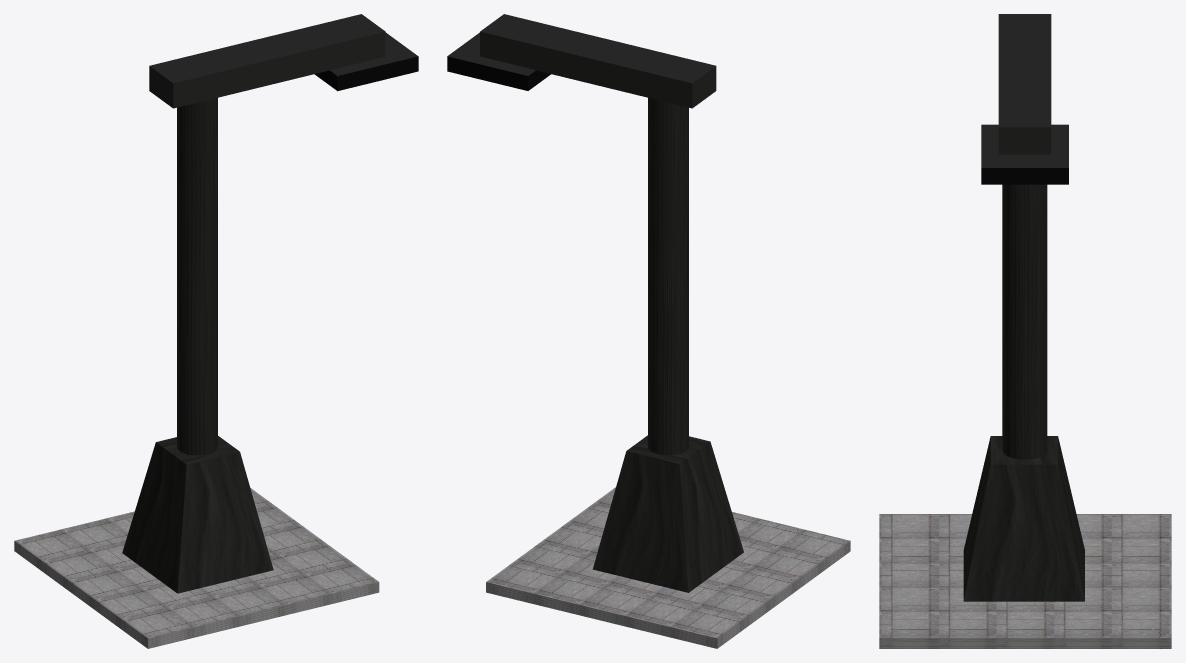
Rendered from poste_luz2.obj.
3 renders of one model, left to right at view 1: azimuth 30°, elevation 25°; view 2: azimuth 150°, elevation 25°; view 3: azimuth 270°, elevation 25°, orthographic. The views are drawn at different scales.
Parts seen in each view (by area): view 1: Cube; view 2: Cube; view 3: Cube.
Part boxes in pixels (x1=…): Cube: x1=14, y1=14, x2=418, y2=648; Cube: x1=447, y1=14, x2=850, y2=648; Cube: x1=879, y1=14, x2=1171, y2=648.
Size of the model in its own units: 10.97 by 16.73 by 8.
Materials: 4 (3 with a texture image).
